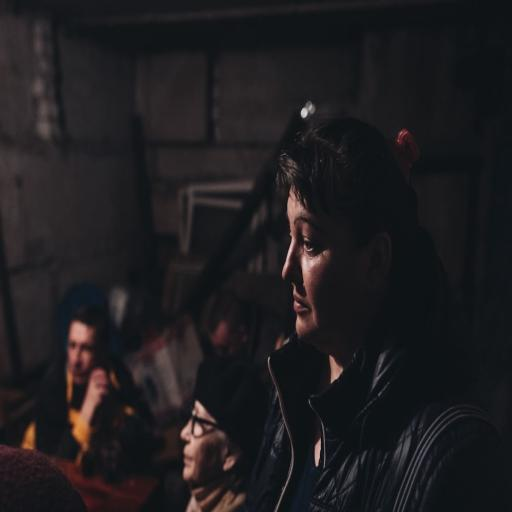face: (283, 195, 367, 358), (181, 419, 227, 487), (68, 321, 95, 385)
